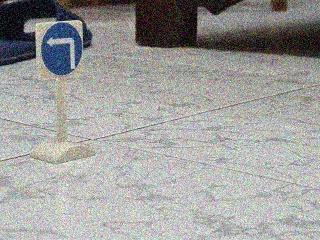left: (34, 21, 86, 79)
